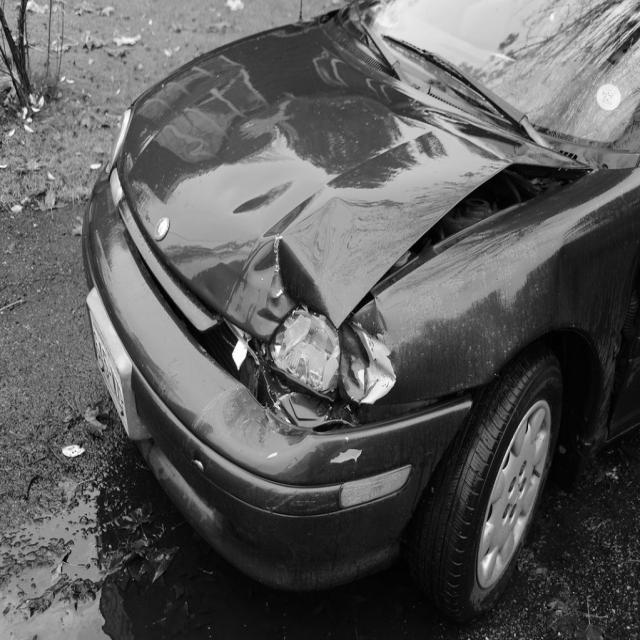crush: (145, 107, 640, 479)
